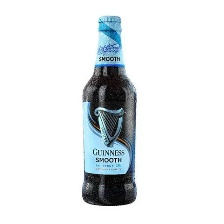bottle: (77, 10, 142, 209)
